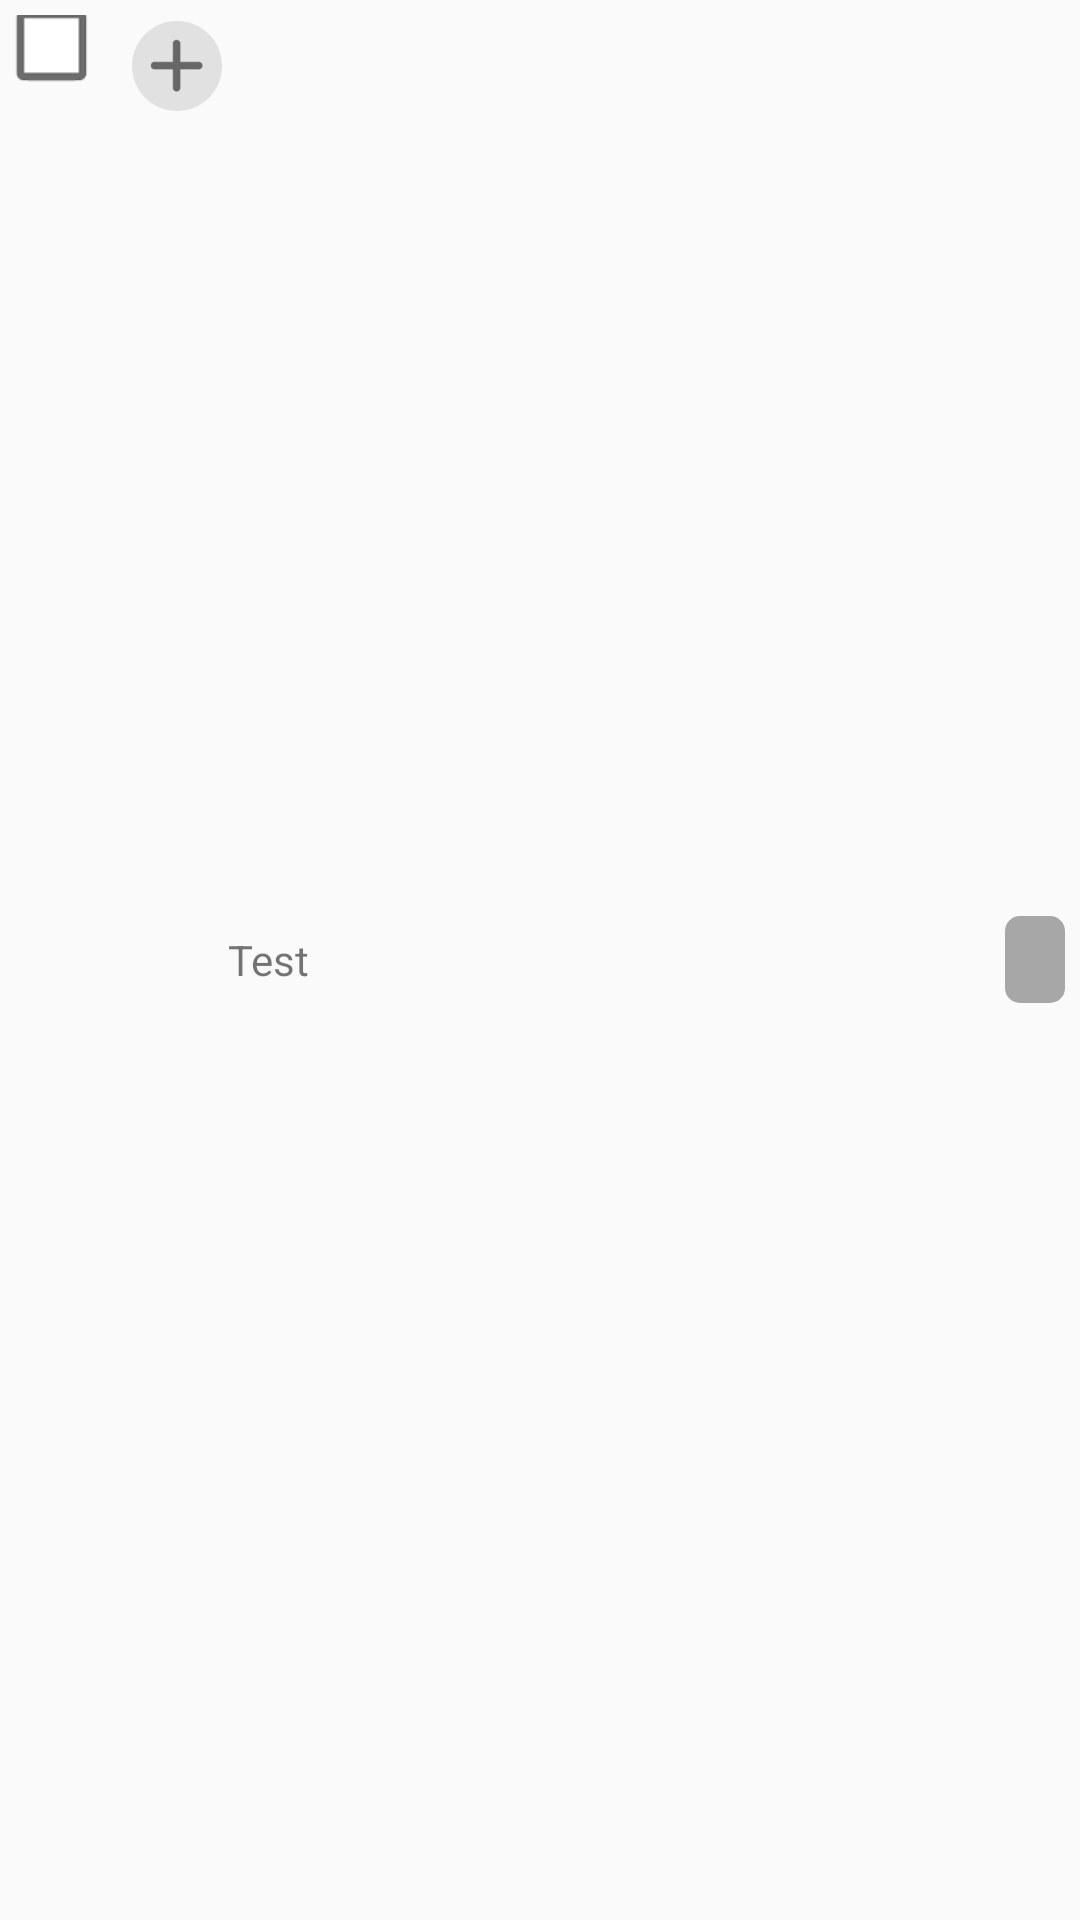

Icon click points for this 1080*1920 phone screenshot, format [x,y]:
plus: [177,66]
